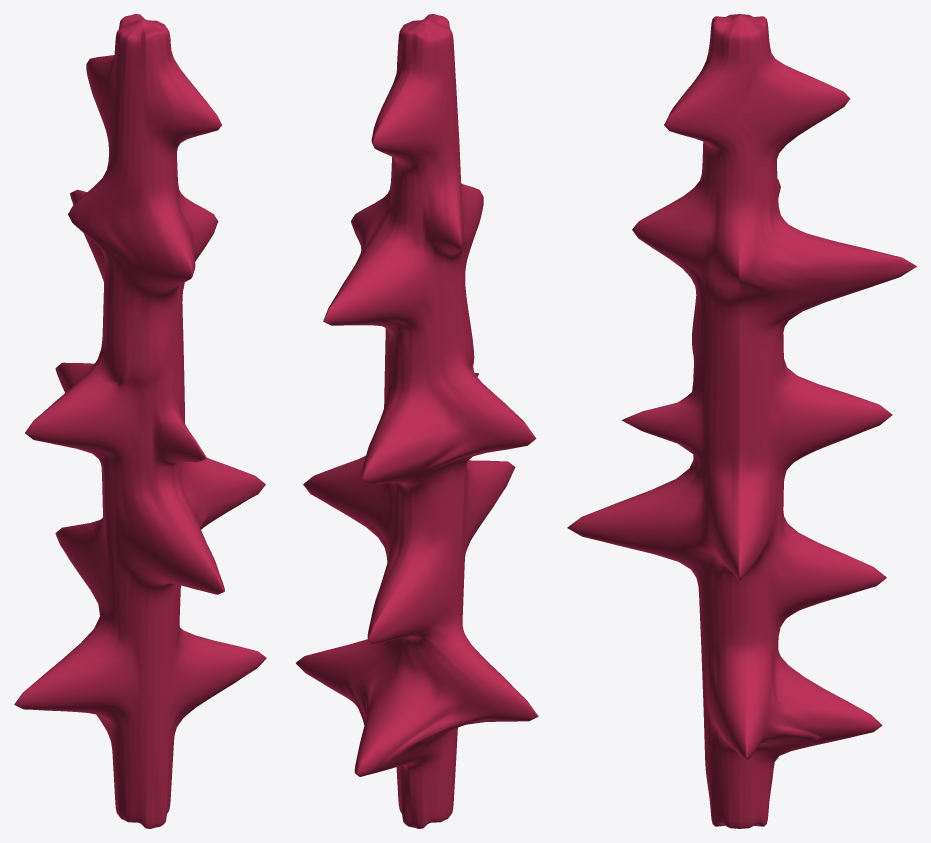
Rendered from SpikeColumn.fbx.
3 views of the same model, side by side, from view 1: azimuth 30°, elevation 25°; view 2: azimuth 150°, elevation 25°; view 3: azimuth 270°, elevation 25° (orthographic).
Parts seen in each view (by area): view 1: Sphere; view 2: Sphere; view 3: Sphere.
Part boxes in pixels (x1,y1,x2,y2): Sphere: (14,14,266,828); Sphere: (296,14,538,828); Sphere: (567,14,916,828).
Bounding box in the file's own units: 322 × 998 × 389.
